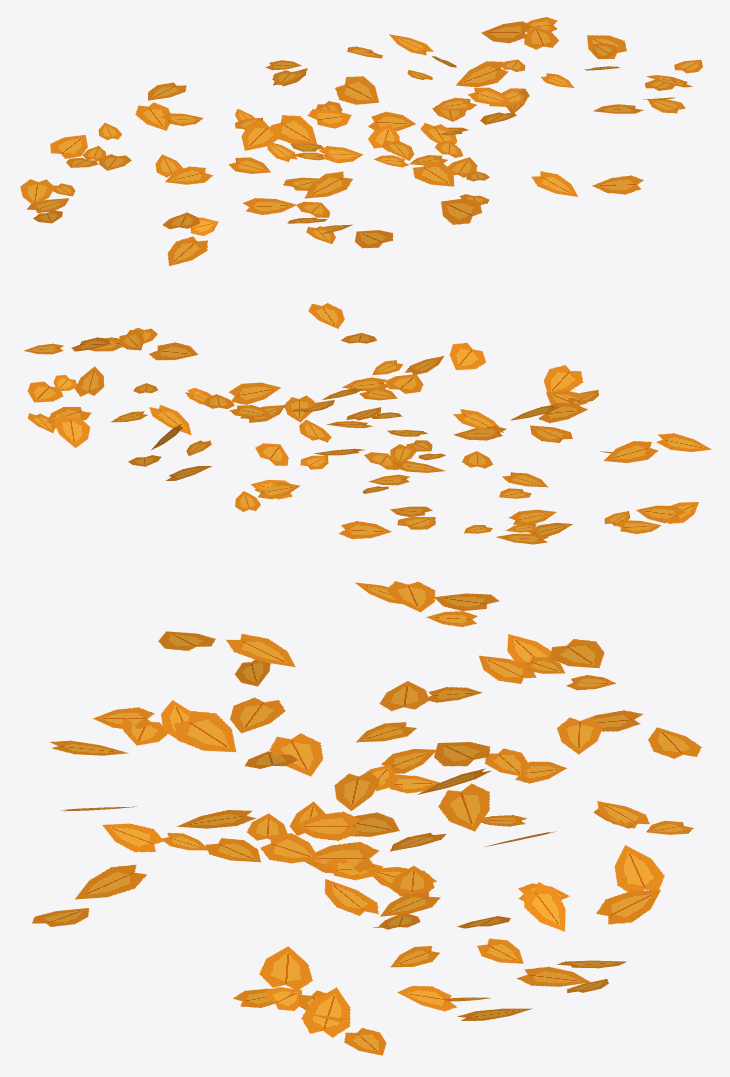
The model's file is petalos_tumba.obj.
3 views of the same model, one above another, from view 1: azimuth 30°, elevation 25°; view 2: azimuth 150°, elevation 25°; view 3: azimuth 270°, elevation 25° (orthographic). The views are drawn at different scales.
Visible parts, largest first — view 1: Petalos; view 2: Petalos; view 3: Petalos.
Part boxes in pixels (box(x1,y1,x2,y2)): Petalos: box(20, 17, 702, 266); Petalos: box(23, 303, 711, 544); Petalos: box(32, 581, 701, 1055).
Size of the model in its own units: 0.8748 by 0.036 by 0.5364.
1 material, 1 textured.
